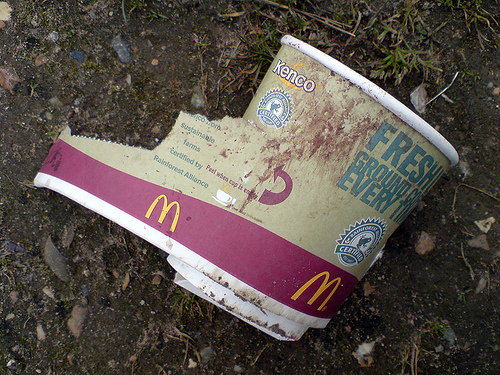litter: (31, 35, 461, 340)
